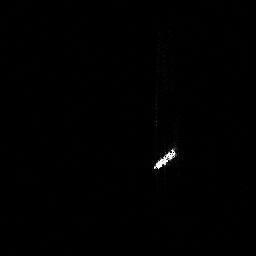ship: (150, 143, 179, 172)
